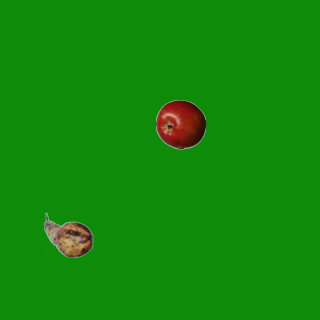Apple Braeburn: (155, 99, 205, 149)
Pear Abate: (43, 210, 93, 260)
